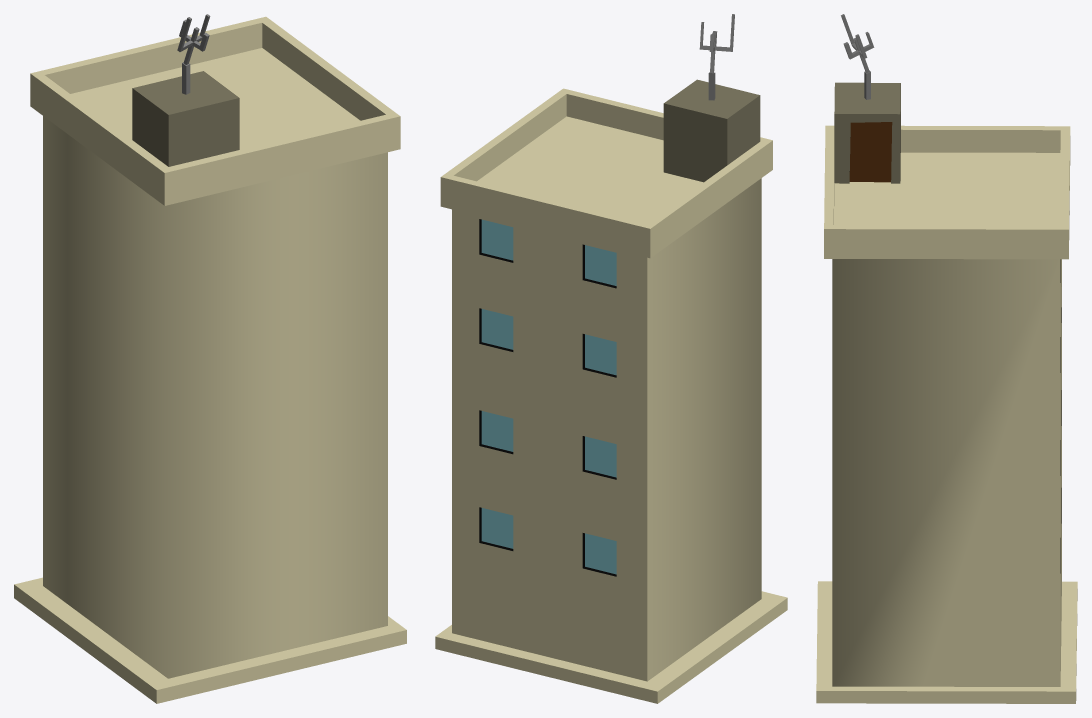
3 views of the same model, side by side, from view 1: azimuth 30°, elevation 25°; view 2: azimuth 150°, elevation 25°; view 3: azimuth 270°, elevation 25° (orthographic). The views are drawn at different scales.
Visible parts, largest first — view 1: Circle.001; view 2: Circle.001; view 3: Circle.001.
Part boxes in pixels (x1,y1,x2,y2): Circle.001: (14,14,406,703); Circle.001: (435,14,787,703); Circle.001: (816,14,1077,703).
Size of the model in its own units: 440 by 1115 by 440.
